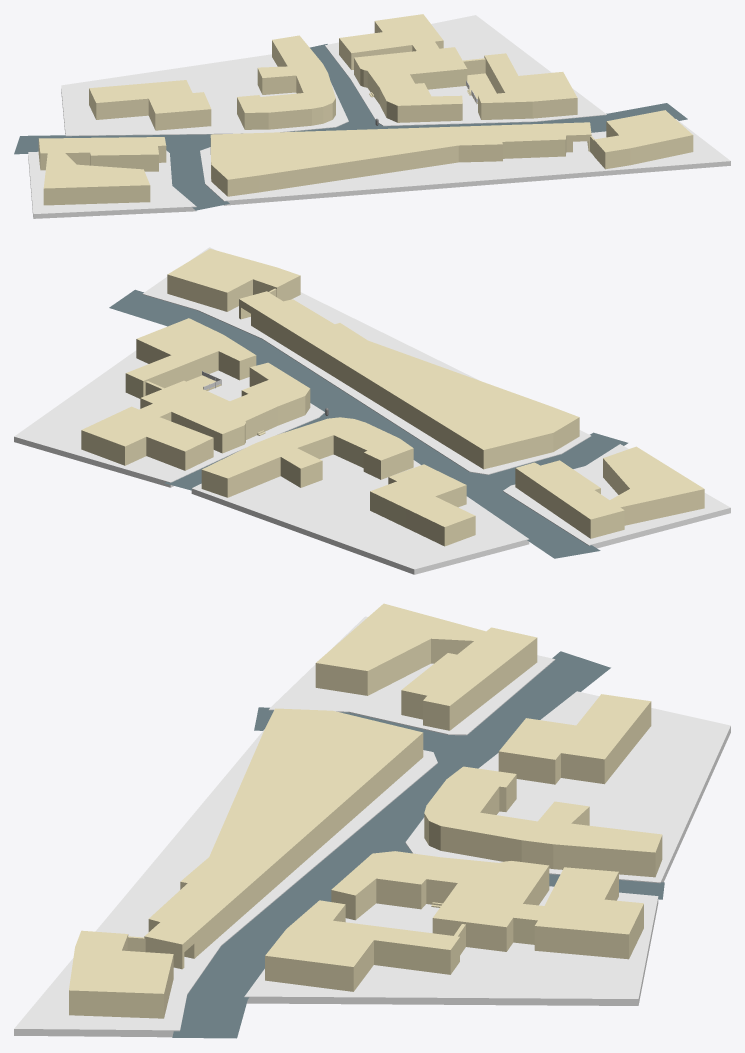
The model's file is horb High Str test condensed.fbx.
3 views of the same model, one above another, from view 1: azimuth 30°, elevation 25°; view 2: azimuth 150°, elevation 25°; view 3: azimuth 270°, elevation 25° (orthographic). The views are drawn at different scales.
Visible parts, largest first — view 1: Plane.005, Plane.012, Plane.010, Plane.015, Plane, Plane.004, Plane.011, Plane.008, Plane.002, Plane.014, Plane.007, Plane.013 (+3 smaller); view 2: Plane.005, Plane.010, Plane.015, Plane.004, Plane.011, Plane, Plane.012, Plane.002, Plane.003, Plane.008, Plane.007, Plane.014 (+2 smaller); view 3: Plane.005, Plane.015, Plane.011, Plane.010, Plane.012, Plane.004, Plane, Plane.002, Plane.008, Plane.014, Plane.003, Plane.009 (+2 smaller).
Part boxes in pixels (x1=…): Plane.005: x1=210, y1=122, x2=591, y2=196; Plane.012: x1=200, y1=119, x2=730, y2=205; Plane.010: x1=61, y1=54, x2=348, y2=136; Plane.015: x1=14, y1=44, x2=687, y2=210; Plane: x1=354, y1=47, x2=467, y2=122; Plane.004: x1=237, y1=35, x2=335, y2=129; Plane.011: x1=325, y1=15, x2=606, y2=126; Plane.008: x1=89, y1=80, x2=211, y2=130; Plane.002: x1=478, y1=53, x2=577, y2=119; Plane.014: x1=43, y1=152, x2=150, y2=205; Plane.007: x1=594, y1=110, x2=693, y2=169; Plane.013: x1=28, y1=150, x2=196, y2=218; Plane.005: x1=239, y1=291, x2=579, y2=469; Plane.010: x1=191, y1=454, x2=529, y2=574; Plane.015: x1=109, y1=289, x2=627, y2=558; Plane.004: x1=201, y1=417, x2=413, y2=497; Plane.011: x1=14, y1=350, x2=324, y2=487; Plane: x1=140, y1=362, x2=310, y2=453; Plane.012: x1=142, y1=247, x2=591, y2=474; Plane.002: x1=125, y1=318, x2=256, y2=398; Plane.003: x1=81, y1=403, x2=213, y2=470; Plane.008: x1=370, y1=464, x2=475, y2=546; Plane.007: x1=167, y1=248, x2=300, y2=311; Plane.014: x1=603, y1=446, x2=704, y2=525; Plane.005: x1=144, y1=708, x2=423, y2=969; Plane.015: x1=172, y1=651, x2=664, y2=1038; Plane.011: x1=244, y1=886, x2=658, y2=1005; Plane.010: x1=405, y1=691, x2=730, y2=883; Plane.012: x1=14, y1=729, x2=437, y2=1037; Plane.004: x1=424, y1=766, x2=662, y2=877; Plane: x1=331, y1=851, x2=549, y2=951; Plane.002: x1=265, y1=900, x2=459, y2=991; Plane.008: x1=498, y1=694, x2=651, y2=784; Plane.014: x1=315, y1=603, x2=490, y2=695; Plane.003: x1=511, y1=867, x2=643, y2=959; Plane.009: x1=401, y1=627, x2=537, y2=730.
Size of the model in its own units: 11519 by 690 by 8286.
